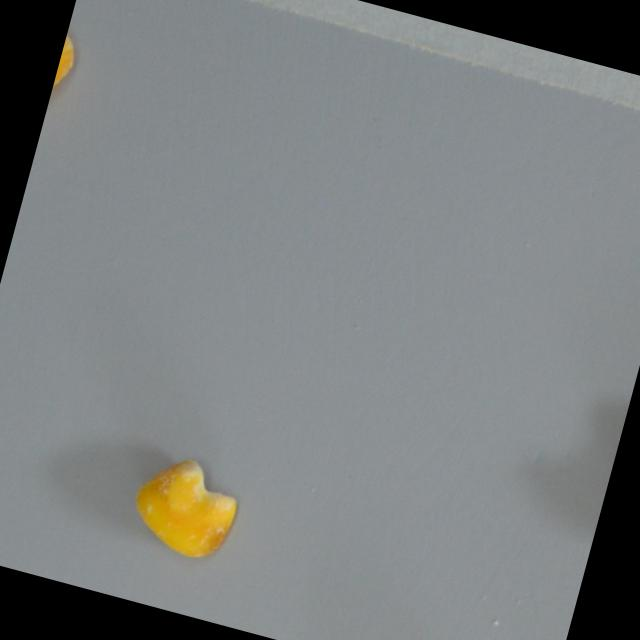pelicula: (123, 447, 244, 565), (41, 11, 85, 129)
